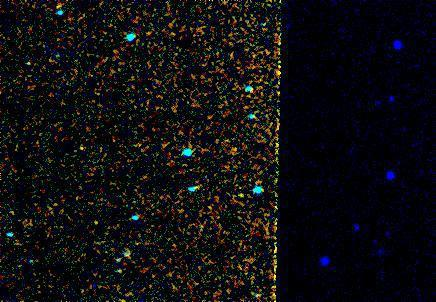star: (225, 180, 255, 210)
